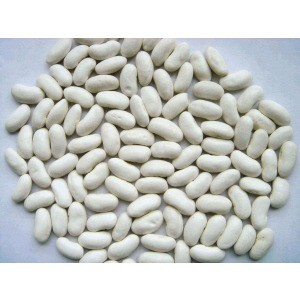beans_brain food: (64, 97, 239, 225)
